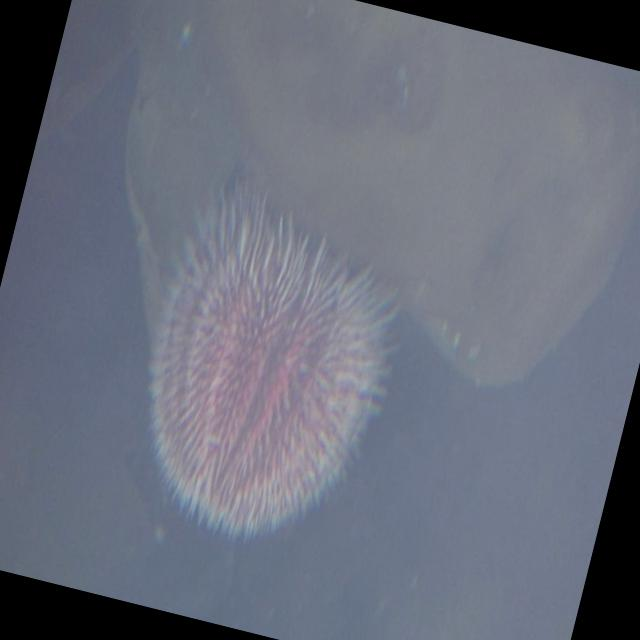Deniz Kestanesi: (106, 160, 430, 565)
